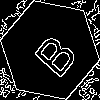B: (25, 25, 80, 81)
